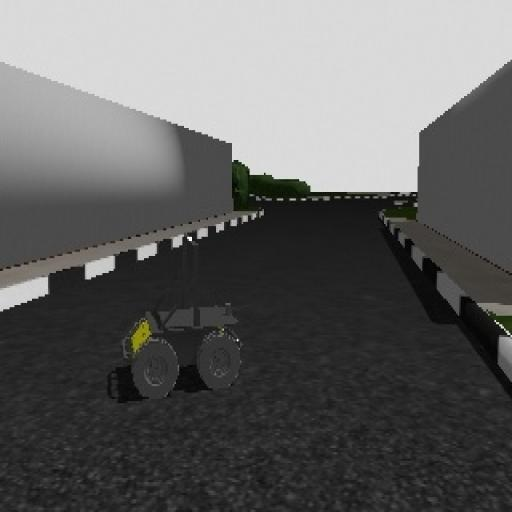huskya200: (120, 259, 256, 404)
